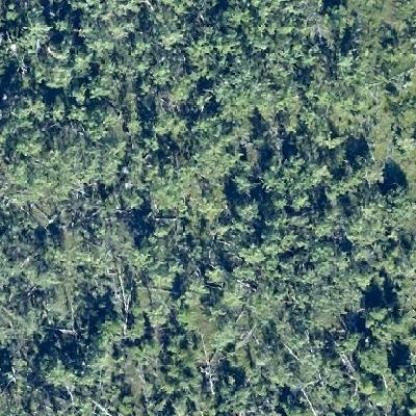tree-top: (355, 336, 393, 376), (36, 347, 68, 386), (383, 179, 414, 215), (42, 32, 74, 64), (39, 60, 73, 90), (218, 0, 249, 29), (232, 194, 260, 224), (21, 10, 53, 36), (229, 168, 257, 196), (44, 96, 66, 122), (366, 300, 388, 324)
